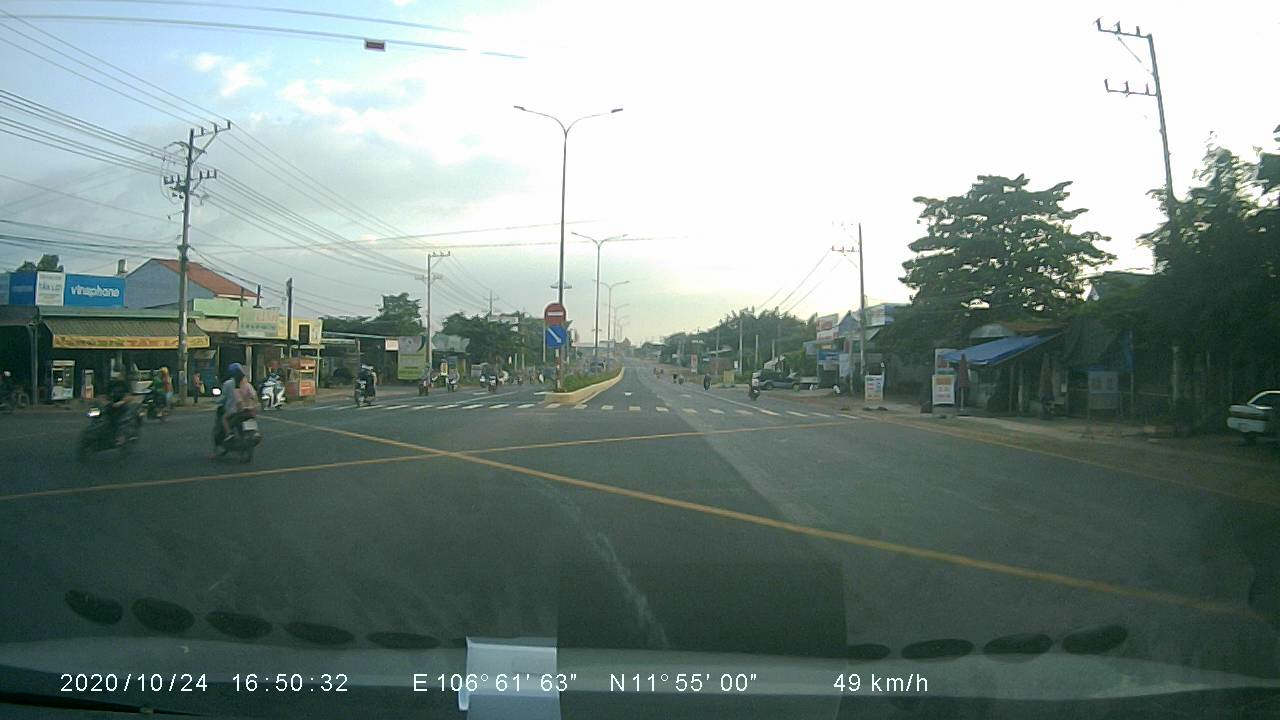Cam di nguoc chieu: (541, 299, 565, 323)
Huong di phai re phai: (543, 323, 570, 349)
